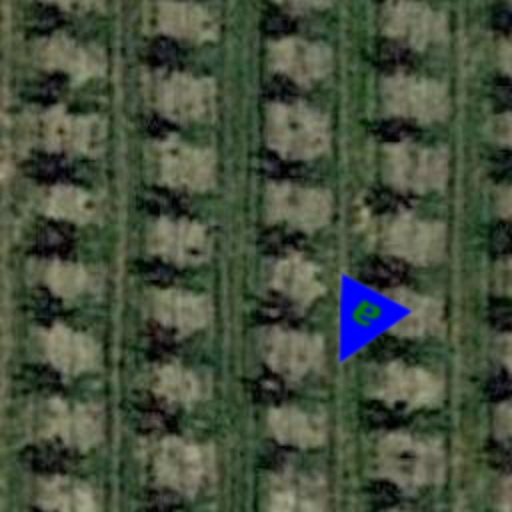triangle: (302, 272, 414, 384)
